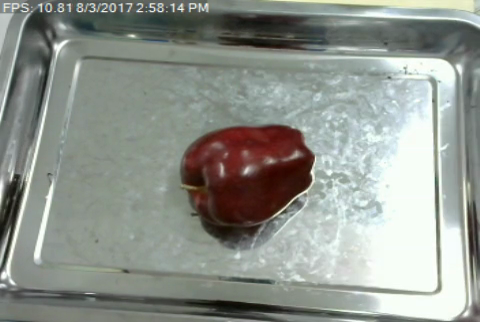Apple: (176, 118, 316, 231)
